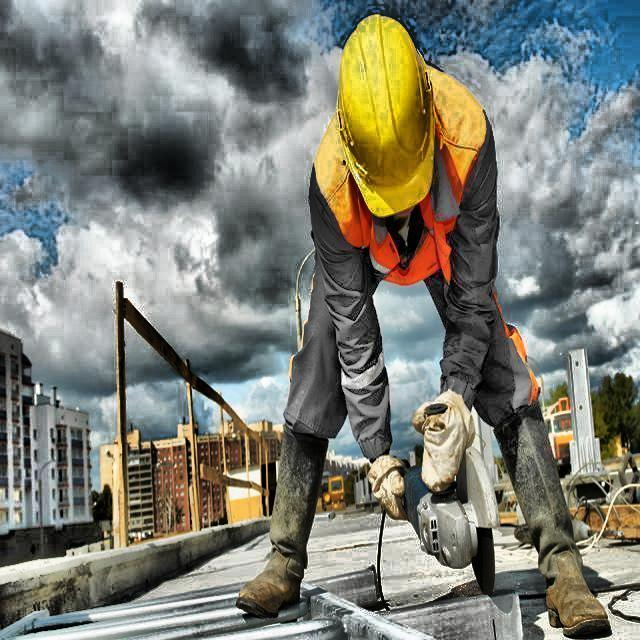safety_jacket: (313, 66, 488, 288)
